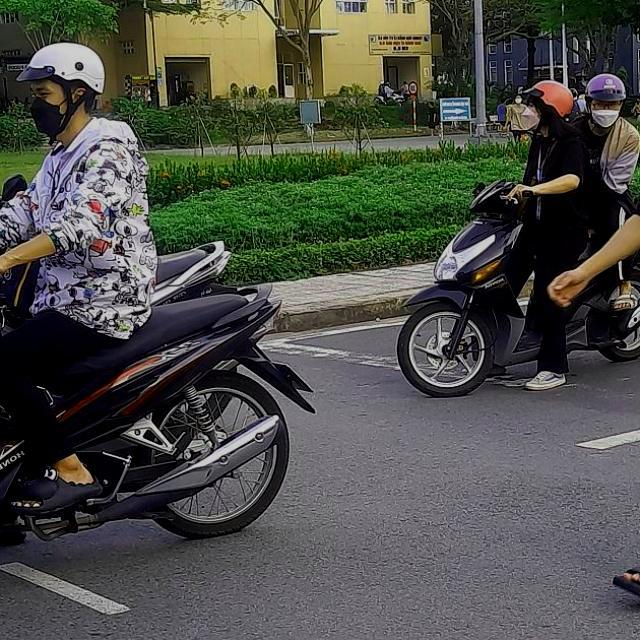Helmet: (23, 43, 105, 138), (520, 80, 574, 135), (586, 72, 627, 128)
